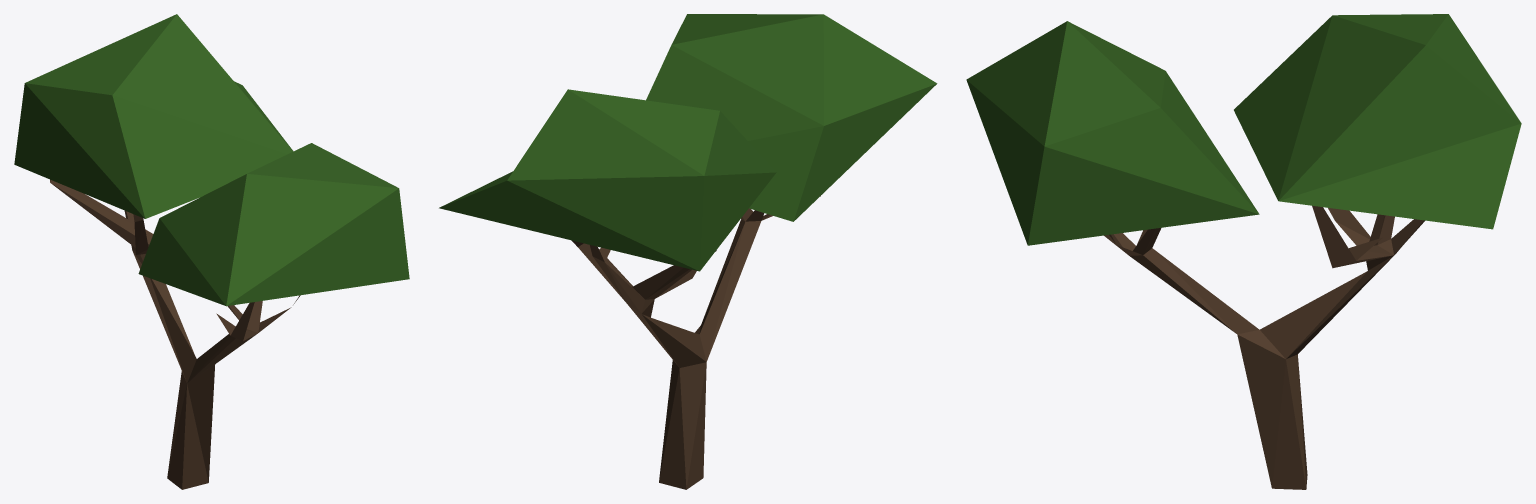
Rendered from tree_d_lod1.glb.
3 renders of one model, left to right at view 1: azimuth 30°, elevation 25°; view 2: azimuth 150°, elevation 25°; view 3: azimuth 270°, elevation 25°, orthographic. The views are drawn at different scales.
Visible parts, largest first — view 1: tree_d_lod1; view 2: tree_d_lod1; view 3: tree_d_lod1.
Part boxes in pixels (x1,y1,x2,y2): tree_d_lod1: (14, 14, 409, 489); tree_d_lod1: (439, 14, 937, 489); tree_d_lod1: (966, 14, 1521, 489).
Size of the model in its own units: 1.57 by 2.46 by 2.67.
